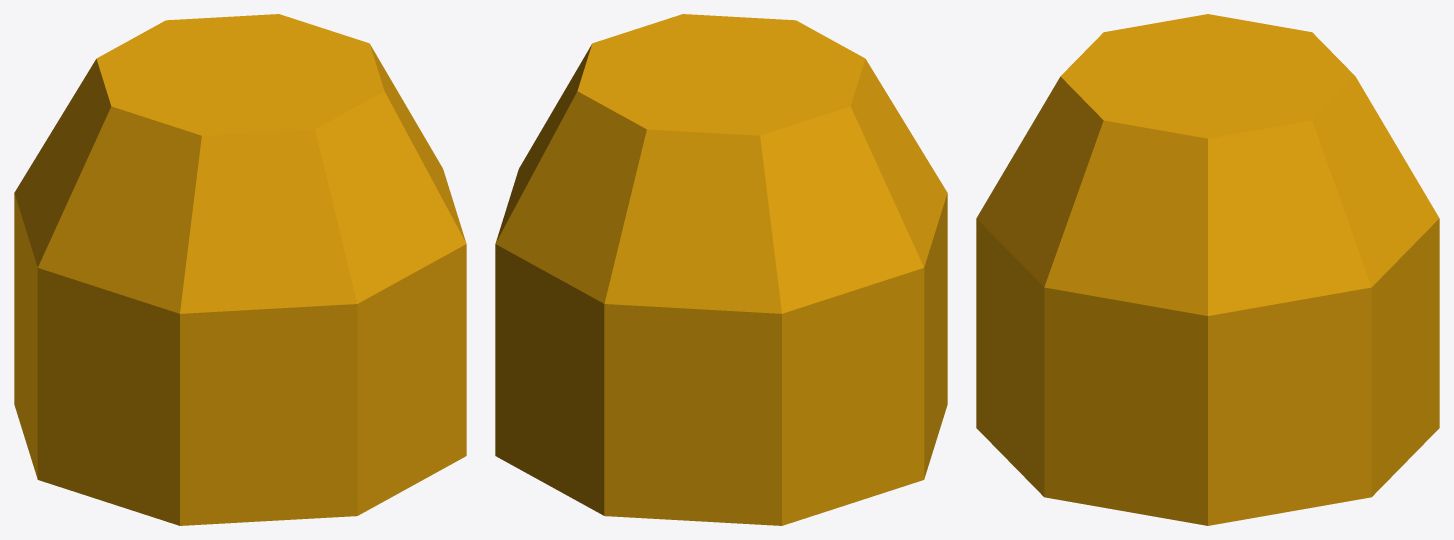
File: Bullet.fbx
3 renders of one model, left to right at view 1: azimuth 30°, elevation 25°; view 2: azimuth 150°, elevation 25°; view 3: azimuth 270°, elevation 25°, orthographic.
Parts seen in each view (by area): view 1: Cylinder; view 2: Cylinder; view 3: Cylinder.
Boxes of the visible parts, x1,y1,x2,y2 form: Cylinder: (14,14,466,525); Cylinder: (495,14,947,525); Cylinder: (976,14,1439,525).
Size of the model in its own units: 12.94 by 10.85 by 12.94.
